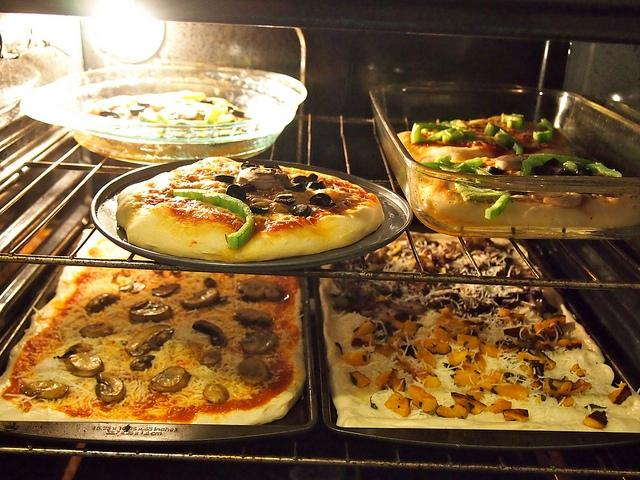bell pepper: (174, 188, 254, 250), (454, 177, 510, 220), (521, 154, 596, 176), (484, 123, 524, 156), (411, 126, 456, 144), (434, 154, 482, 166), (533, 118, 555, 142), (442, 130, 477, 145), (457, 162, 493, 176), (500, 113, 524, 130), (412, 122, 450, 132)
mushroom: (125, 324, 174, 357), (236, 167, 293, 190), (147, 366, 190, 394), (238, 278, 286, 303), (64, 351, 105, 377), (238, 330, 278, 356), (192, 320, 229, 348), (95, 372, 126, 404), (20, 380, 68, 400), (238, 357, 271, 386), (130, 300, 172, 322), (84, 292, 120, 317), (53, 340, 94, 359), (182, 288, 220, 308), (232, 308, 272, 326), (494, 154, 532, 172), (203, 384, 230, 404), (78, 323, 114, 338), (118, 278, 146, 295), (152, 283, 181, 298), (130, 355, 156, 371), (200, 350, 222, 365), (250, 205, 268, 215)
